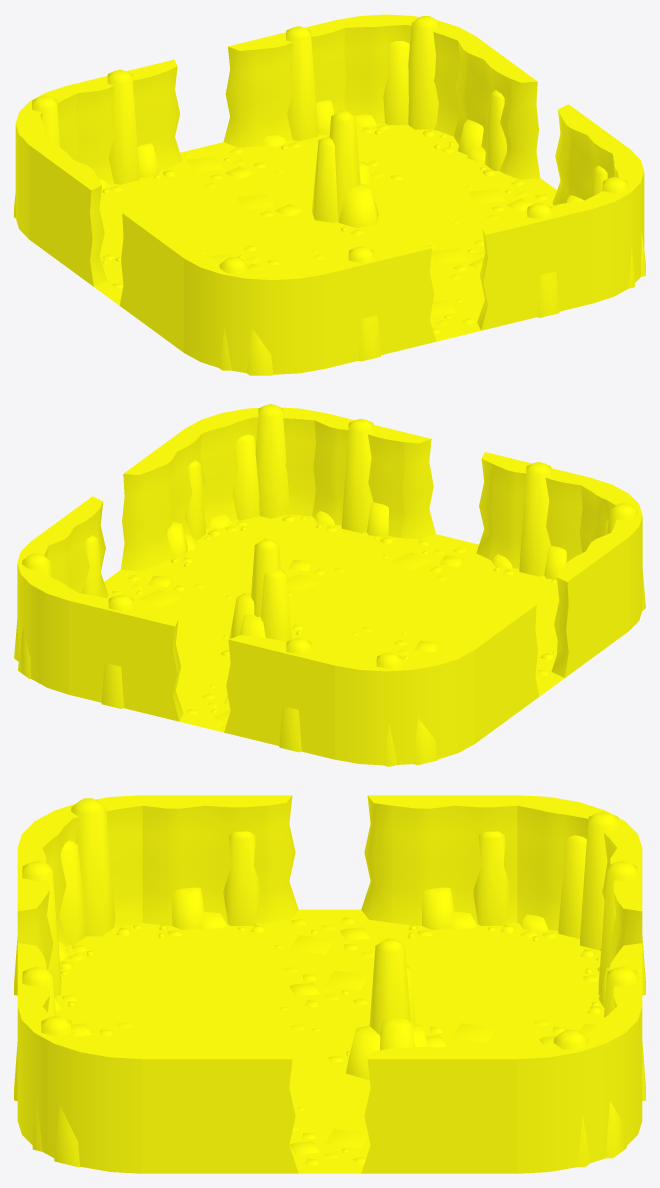
Rendered from 建筑构件_房间_大.glb.
The picture shows the model from 3 angles, top to bottom: view 1: azimuth 30°, elevation 25°; view 2: azimuth 150°, elevation 25°; view 3: azimuth 270°, elevation 25°; orthographic projection. The views are drawn at different scales.
Parts seen in each view (by area): view 1: room-large; view 2: room-large; view 3: room-large.
Boxes of the visible parts, x1,y1,x2,y2 form: room-large: (14, 14, 645, 375); room-large: (14, 404, 645, 766); room-large: (14, 795, 645, 1173).
Size of the model in its own units: 20 by 4.4 by 20.23.
Materials: 1 (1 with a texture image).
